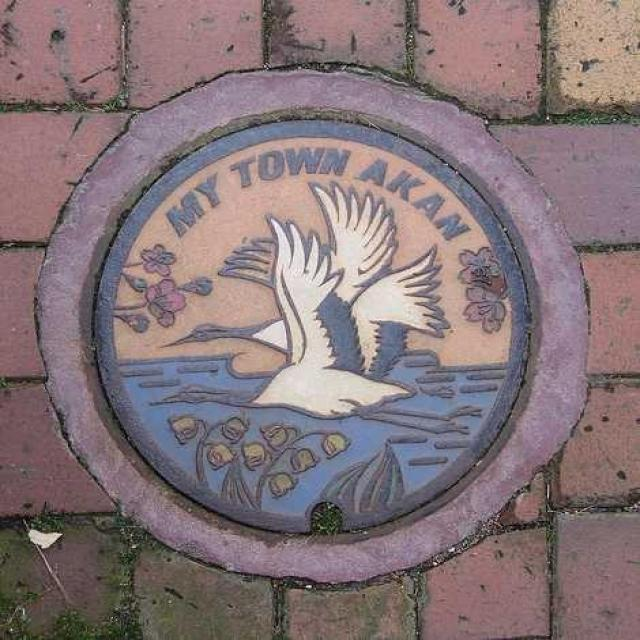manhole: (34, 69, 541, 580)
